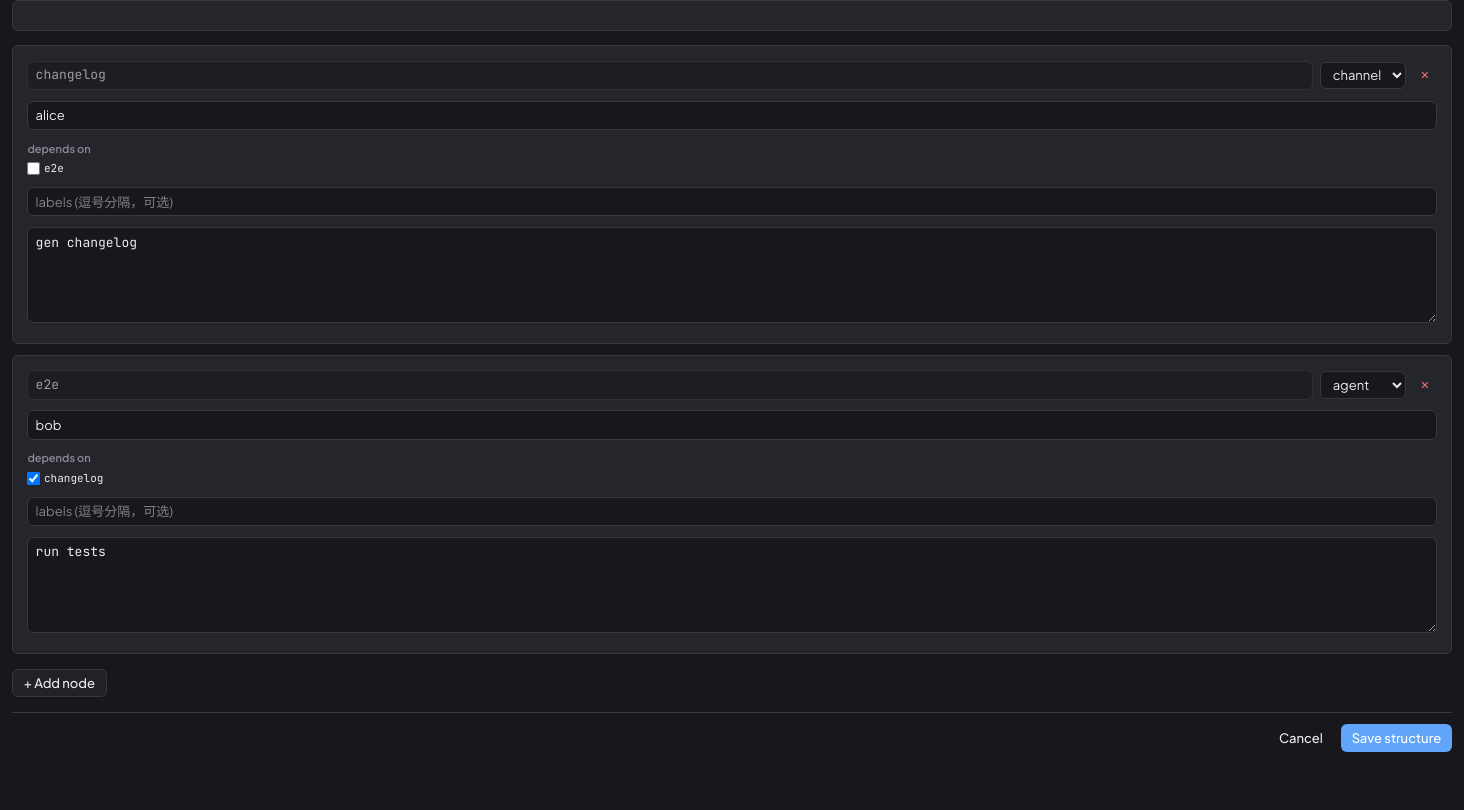
it: FlowStructureEditor › changing type to channel_thread swaps owner for participants
This screenshot has width=1464, height=810.
Check: the 1st field with test id "fse-node-owner" is shown, box [27,100,1437,130]
Select "channel" in the 1st dropdown with test id "fse-node-type": (1363, 75) [1320,62,1406,89]
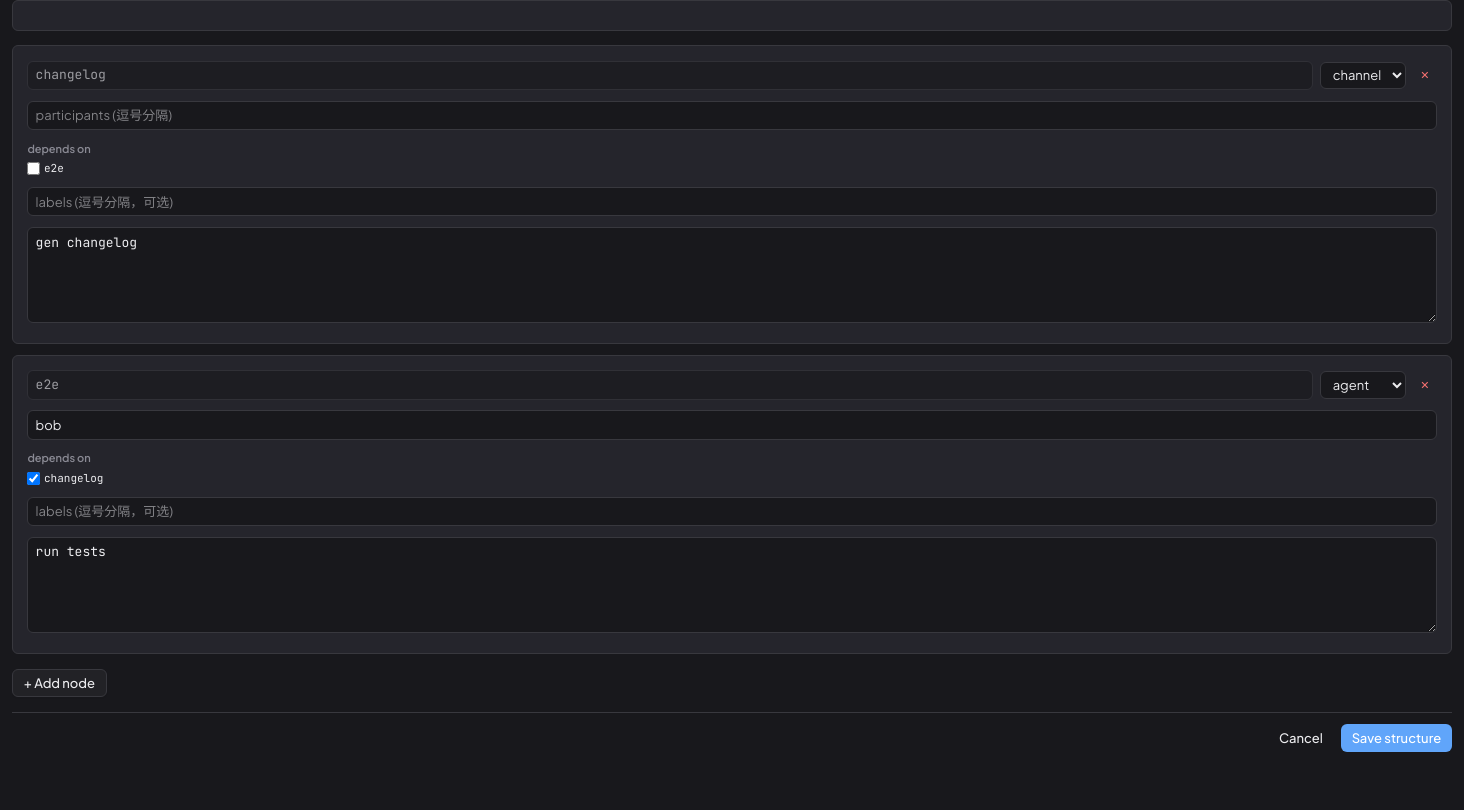
Check: the field with test id "fse-node-participants" is shown, box [27,100,1437,130]
